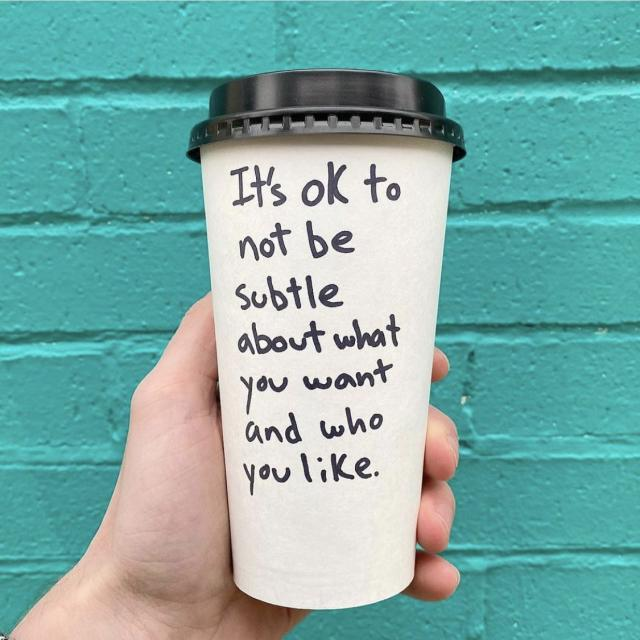paper cup: (187, 69, 466, 610)
